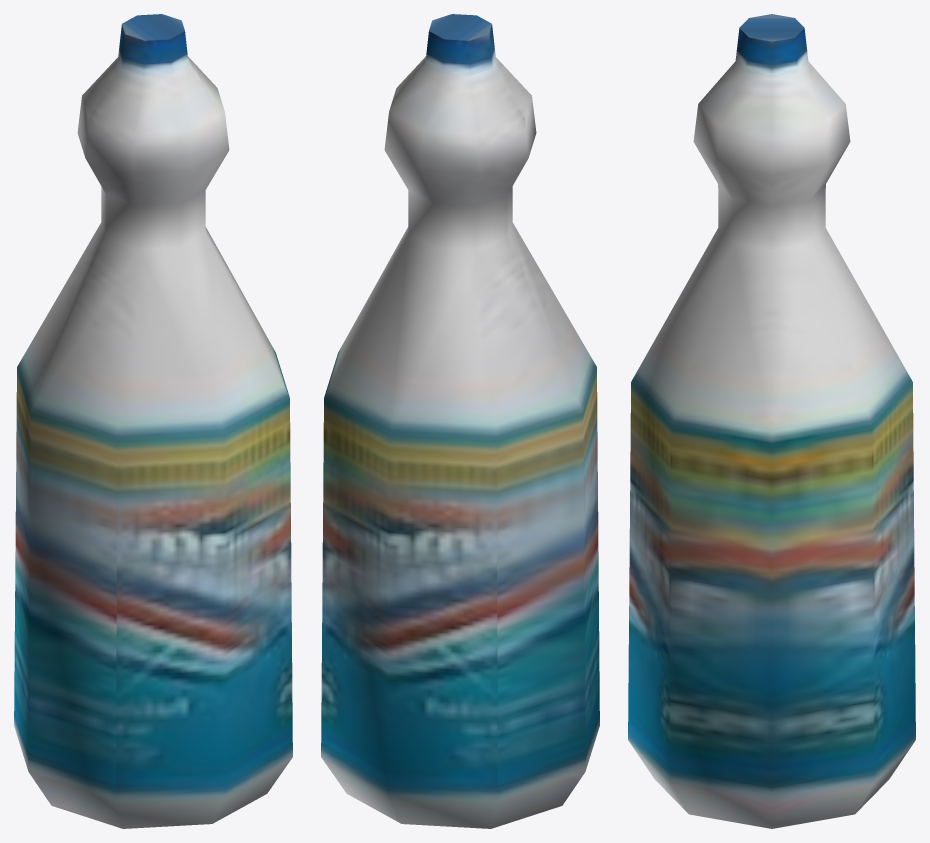
File: Chemical_01-col.glb
The picture shows the model from 3 angles, left to right: view 1: azimuth 30°, elevation 25°; view 2: azimuth 150°, elevation 25°; view 3: azimuth 270°, elevation 25°; orthographic projection.
Visible parts, largest first — view 1: Chemical_01-col; view 2: Chemical_01-col; view 3: Chemical_01-col.
Part boxes in pixels (box(x1,y1,x2,y2)): Chemical_01-col: box(14, 14, 292, 828); Chemical_01-col: box(321, 14, 599, 828); Chemical_01-col: box(628, 14, 915, 828).
Size of the model in its own units: 0.0663 by 0.1909 by 0.0663.
1 material, 1 textured.
